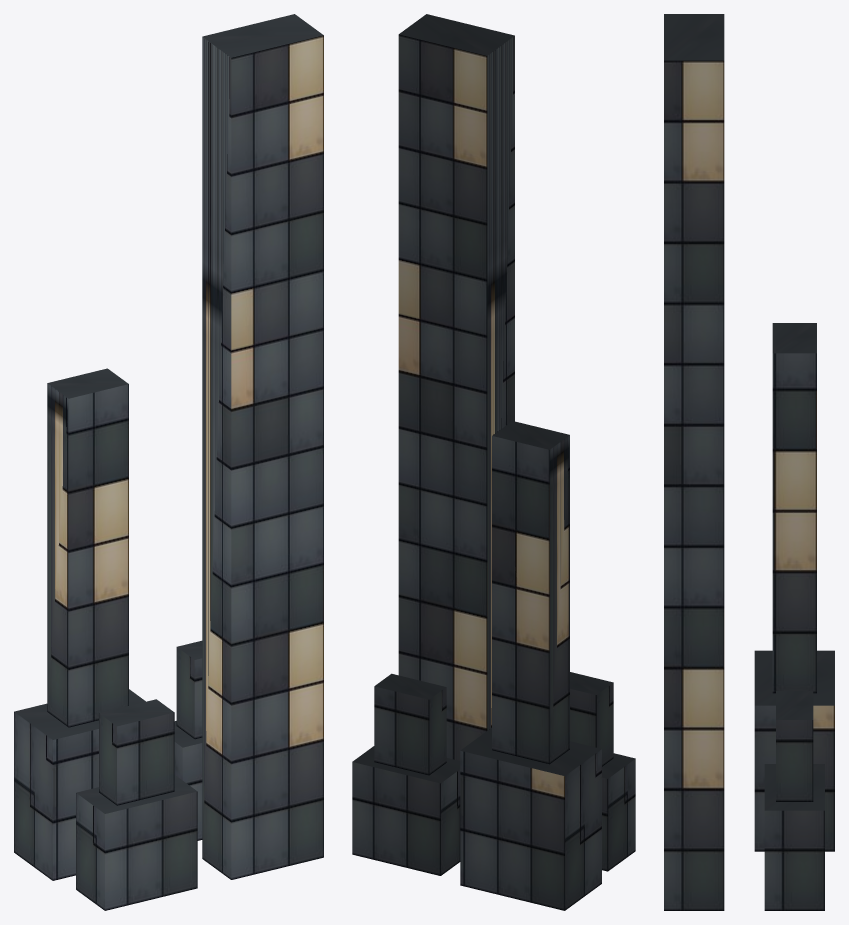
Rendered from city_block_12345_6_20.glb.
The picture shows the model from 3 angles, left to right: view 1: azimuth 30°, elevation 25°; view 2: azimuth 150°, elevation 25°; view 3: azimuth 270°, elevation 25°; orthographic projection. The views are drawn at different scales.
Parts seen in each view (by area): view 1: block_20; view 2: block_20; view 3: block_20.
Part boxes in pixels (<box>): block_20: <box>14,14,323,910</box>; block_20: <box>352,14,635,910</box>; block_20: <box>664,14,834,910</box>.
Bounding box in the file's own units: 4.05 × 14 × 2.55.
4 materials, 4 textured.
